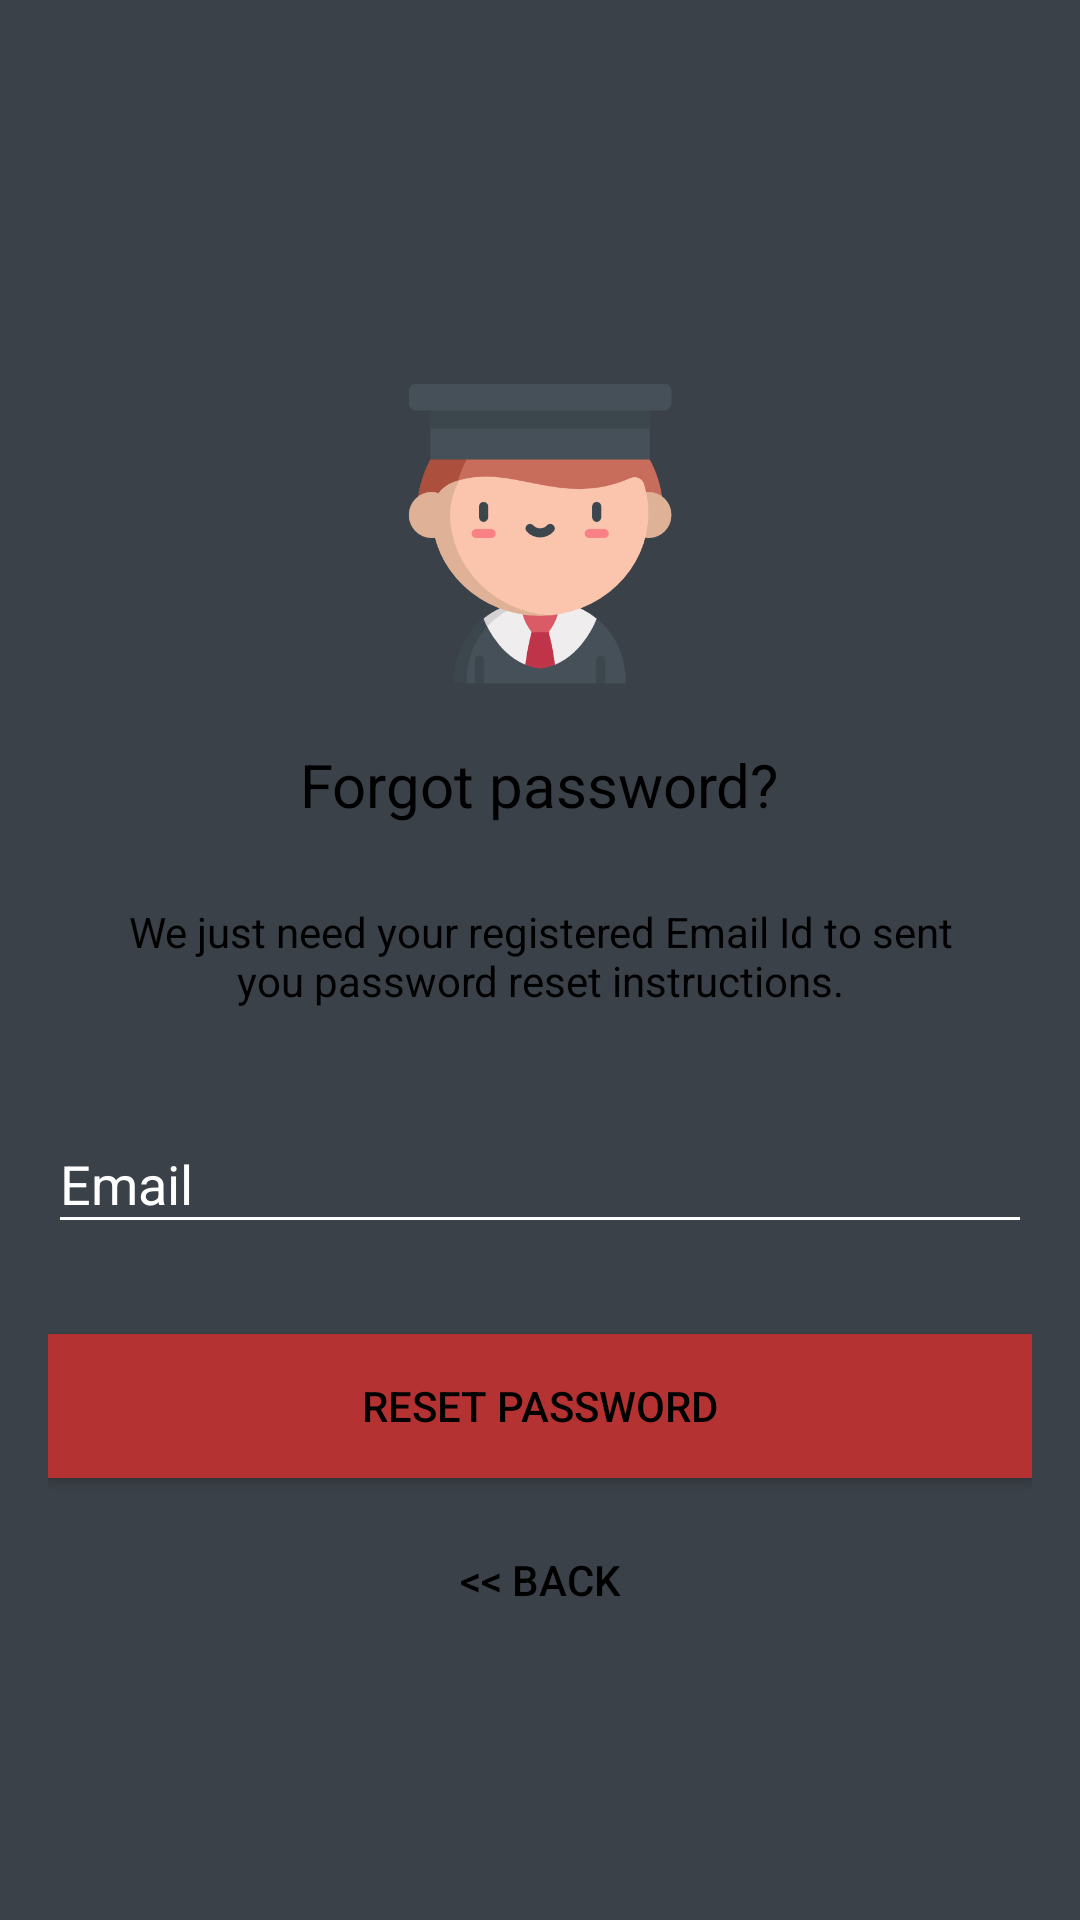

Icon bounding boxes for this 1080px×1920px phone screenshot, format (x1, y1, x2, y2):
student login: (409, 459, 672, 669)
